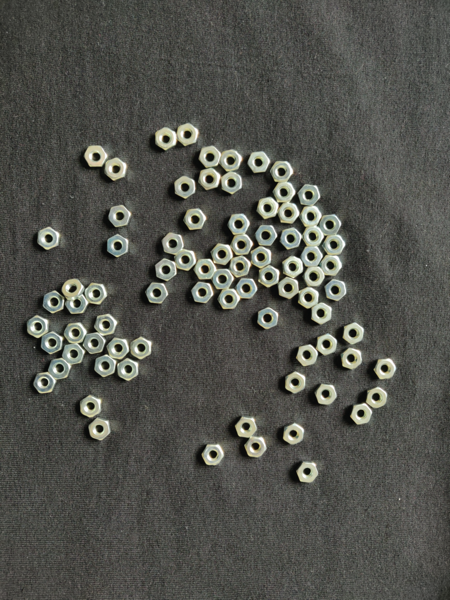nut: (88, 418, 112, 442), (176, 123, 199, 147), (108, 205, 132, 228), (183, 208, 207, 231), (37, 227, 60, 251), (161, 233, 185, 256), (27, 315, 50, 339), (33, 372, 57, 395), (269, 161, 294, 183), (219, 149, 242, 172), (211, 243, 234, 266), (84, 283, 107, 306), (42, 291, 65, 314), (107, 337, 130, 360), (296, 344, 319, 367), (84, 146, 108, 168), (155, 127, 177, 151), (107, 234, 129, 258), (155, 258, 177, 282), (145, 283, 169, 305), (258, 265, 280, 289), (94, 314, 118, 336), (64, 322, 88, 344), (62, 344, 86, 366), (48, 358, 72, 380), (201, 444, 225, 466), (105, 158, 127, 181), (199, 145, 221, 168), (248, 151, 271, 173), (198, 168, 221, 190), (174, 176, 196, 199), (298, 184, 321, 206), (257, 197, 279, 220), (280, 228, 303, 250), (191, 282, 214, 304), (282, 256, 304, 279), (257, 307, 279, 330), (325, 279, 348, 301), (62, 279, 85, 301), (42, 332, 64, 355), (94, 355, 117, 377), (343, 322, 365, 345), (374, 358, 397, 380), (283, 423, 305, 446), (83, 333, 107, 354), (285, 371, 306, 395), (253, 226, 278, 246), (278, 202, 300, 224), (175, 249, 197, 271), (229, 256, 251, 278), (341, 348, 363, 370), (366, 387, 388, 409), (297, 462, 319, 484), (221, 172, 242, 195), (299, 206, 322, 227), (227, 214, 250, 235), (319, 215, 342, 236), (323, 235, 346, 256), (194, 259, 217, 280), (251, 246, 272, 269), (212, 269, 235, 290), (301, 246, 324, 267), (278, 277, 299, 300), (235, 279, 258, 300), (218, 289, 241, 310), (131, 337, 152, 360), (317, 333, 338, 356), (315, 384, 338, 405), (350, 404, 373, 425), (235, 417, 258, 438), (65, 295, 89, 315), (231, 235, 253, 256), (299, 287, 320, 309), (311, 303, 332, 325), (80, 396, 101, 418), (245, 437, 267, 458), (273, 183, 296, 203), (320, 256, 343, 276), (303, 267, 326, 287), (303, 227, 325, 247)
